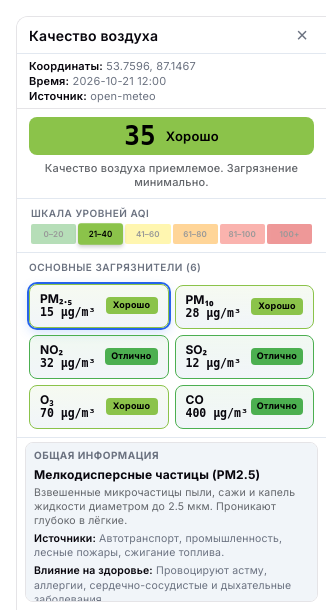
RightAirPanel Pinning (Фиксация и расфиксация загрязнителей по клику) › 2. Клик по веществу фиксирует его (добавляется индикатор пина и класс .pollutant-tile--pinned)
Click the button with aria-label "NO₂: 32, норма: Отлично". click: (99,357)
box: [29,335,168,379]
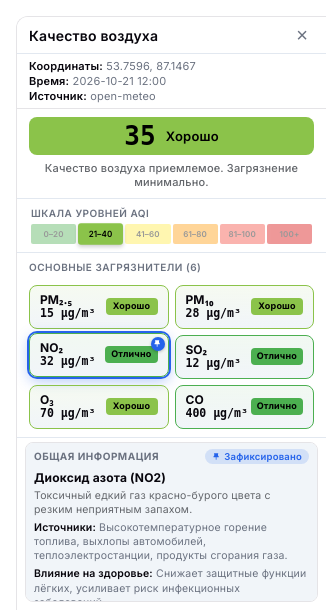
Check: the element with test id "pin-indicator-nitrogen_dioxide" is shown, box [150,337,164,351]
Check: the element with test id "general-info-pinned-tag" is shown, box [205,449,309,464]
Check: the text "Диоксид азота (NO2)" is shown, box [34,470,166,485]
